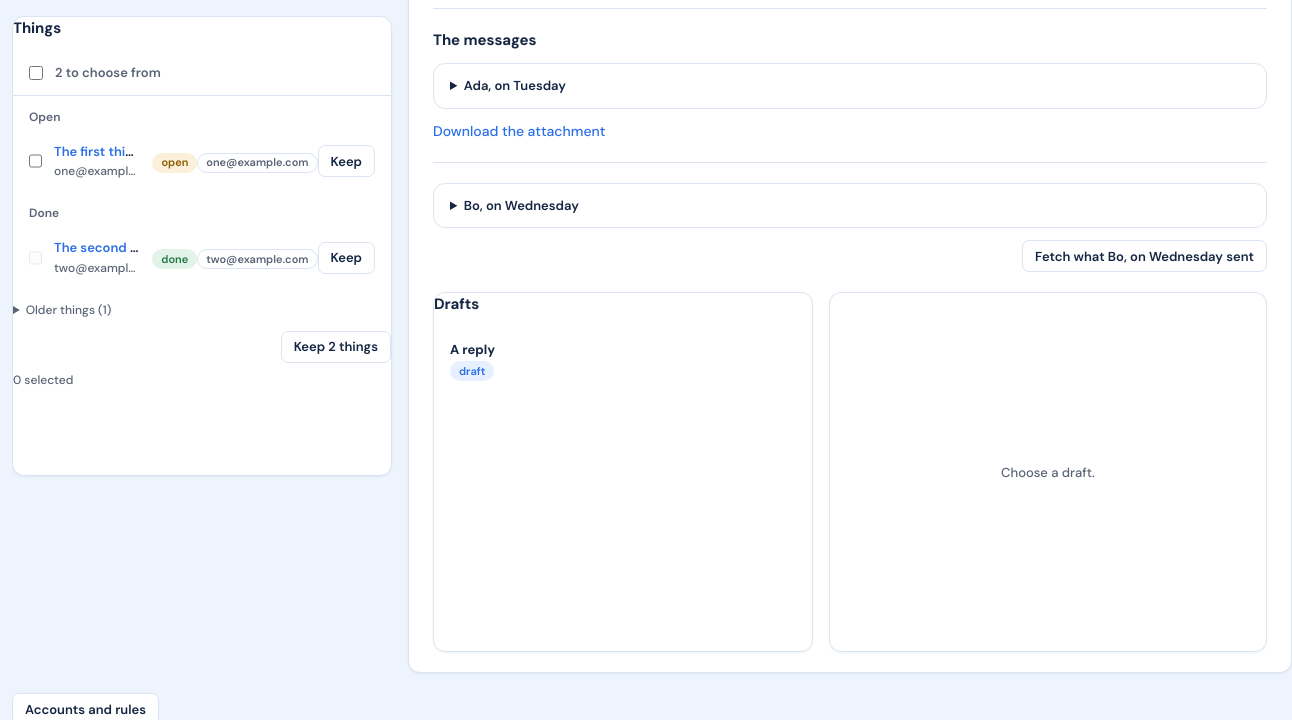
the pieces a descriptor is made of › chooses inside a routed detail without touching the URL
The width and height of the screenshot is (1292, 720).
(page scrolled)
Expected: the text "Choose a draft." is shown, x1=1001 y1=464 x2=1095 y2=481
What coordinates should you click on to do the following:
click the link "A reply draft"
I would click on:
 (473, 361)
Its box is x1=450 y1=341 x2=495 y2=382.
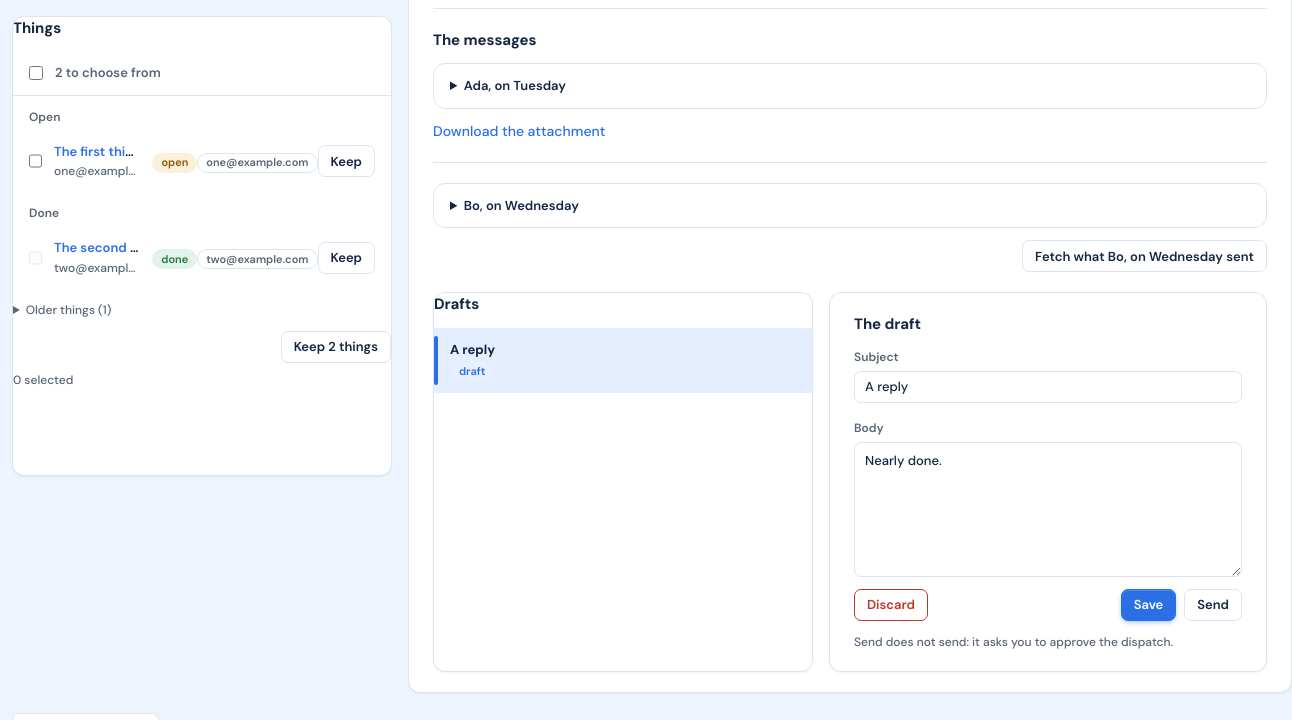
Now the field labelled "Subject" is shown, box x1=854 y1=371 x2=1242 y2=403
